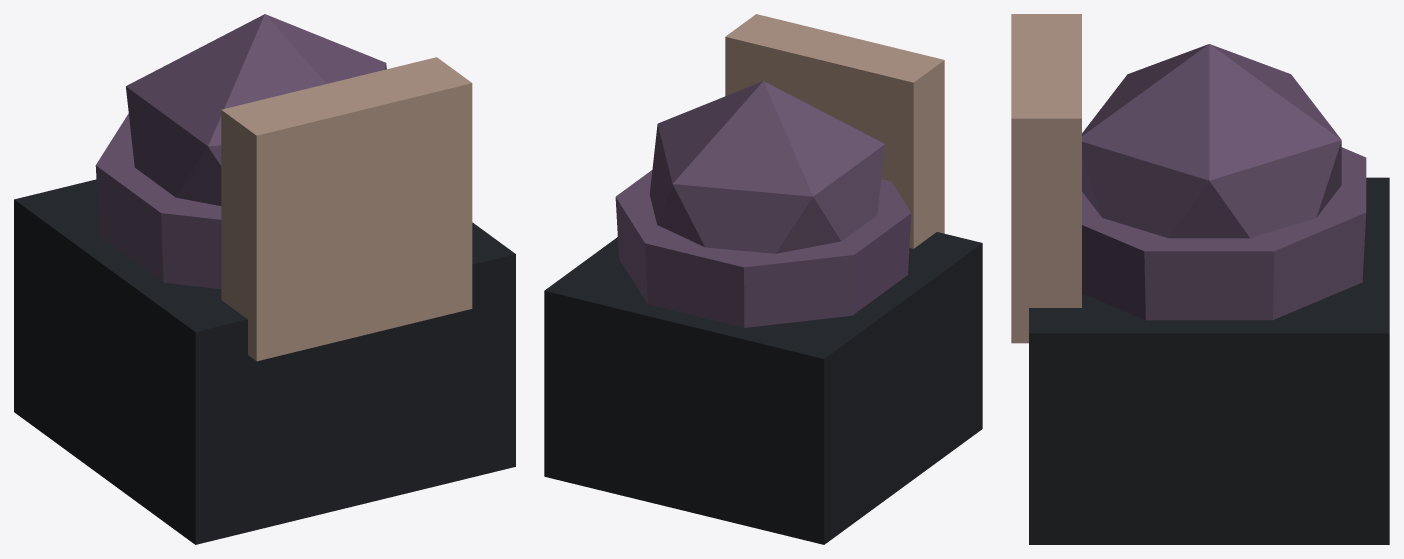
The model's file is inf_brute_lower_leg.fbx.
3 views of the same model, side by side, from view 1: azimuth 30°, elevation 25°; view 2: azimuth 150°, elevation 25°; view 3: azimuth 270°, elevation 25° (orthographic). The views are drawn at different scales.
Parts seen in each view (by area): view 1: inf_brute_lower_leg; view 2: inf_brute_lower_leg; view 3: inf_brute_lower_leg.
Part boxes in pixels (x1,y1,x2,y2): inf_brute_lower_leg: [14, 14, 515, 544]; inf_brute_lower_leg: [544, 14, 982, 544]; inf_brute_lower_leg: [1011, 14, 1389, 544].
Size of the model in its own units: 104 by 132 by 107.
